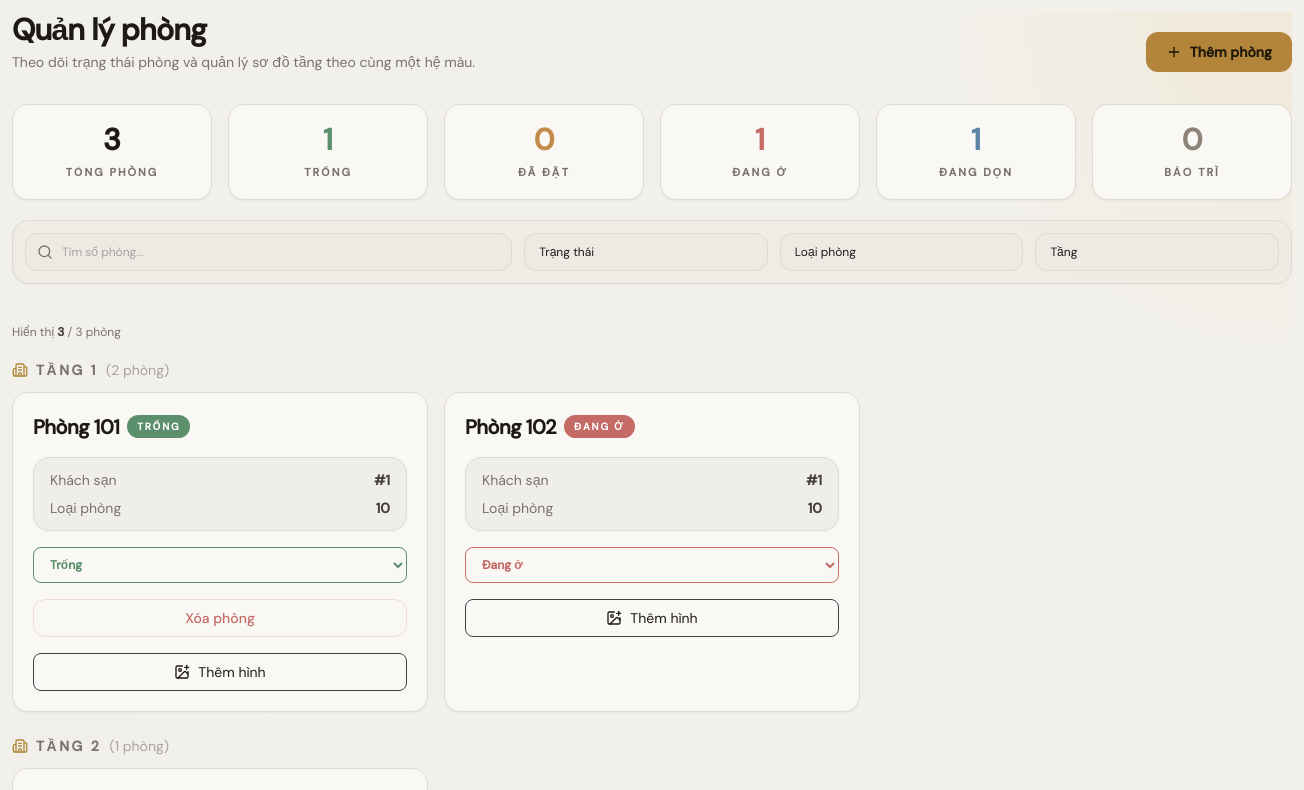
Scenario: RoomManagement › toggles create form when button is clicked
Expected: the text "Phòng 101" is shown, [33, 412, 119, 440]
Click the button "Thêm phòng".
click(1219, 52)  # box [1146, 32, 1292, 72]
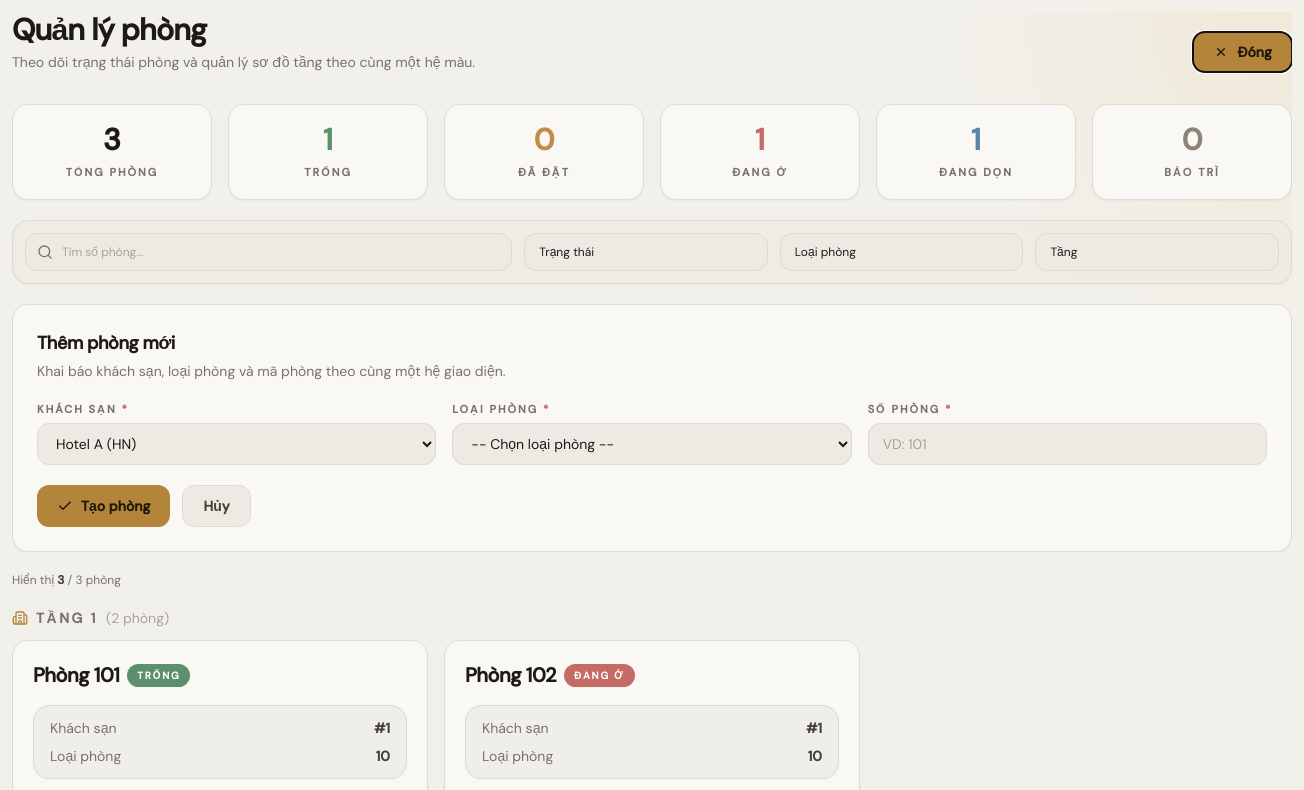
Click the button "Đóng".
click(1243, 52)  # box [1193, 32, 1292, 72]
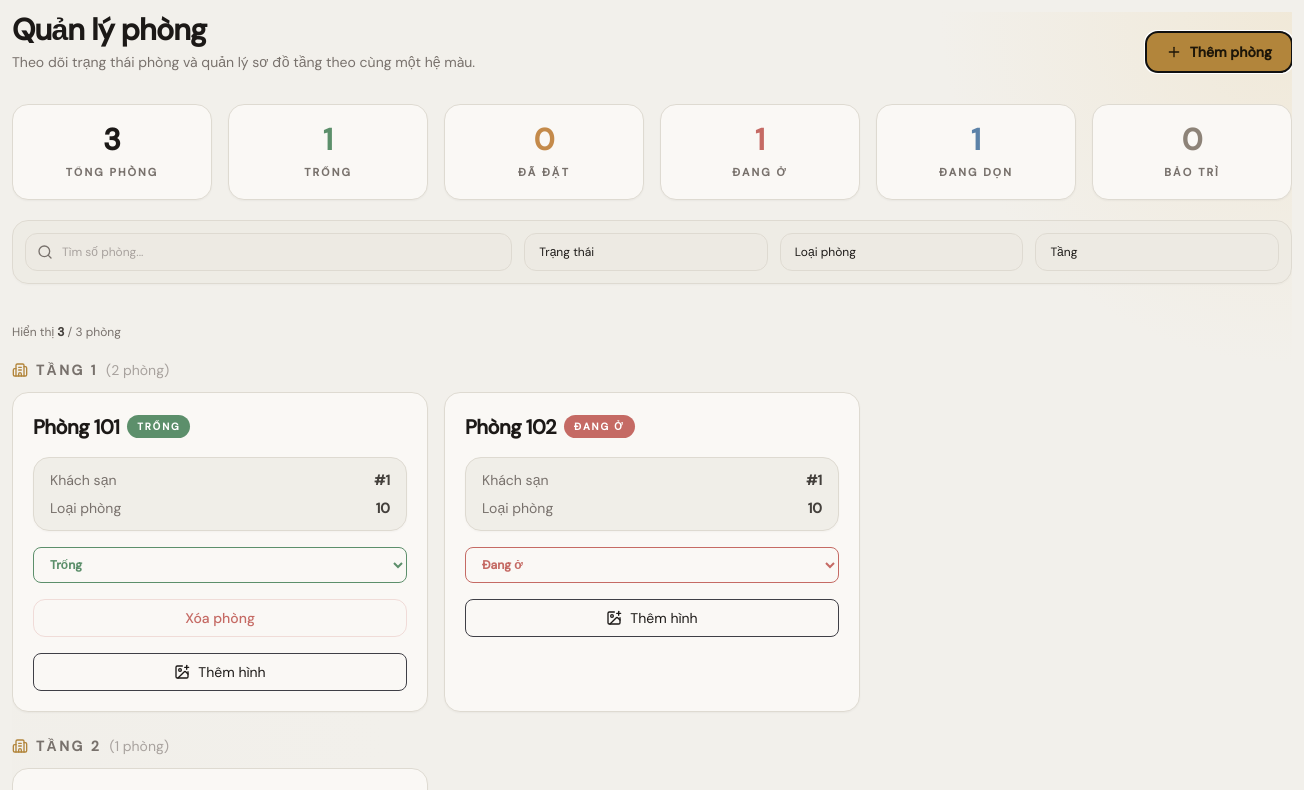
Expected: the button "Thêm phòng" is shown, [1146, 32, 1292, 72]
